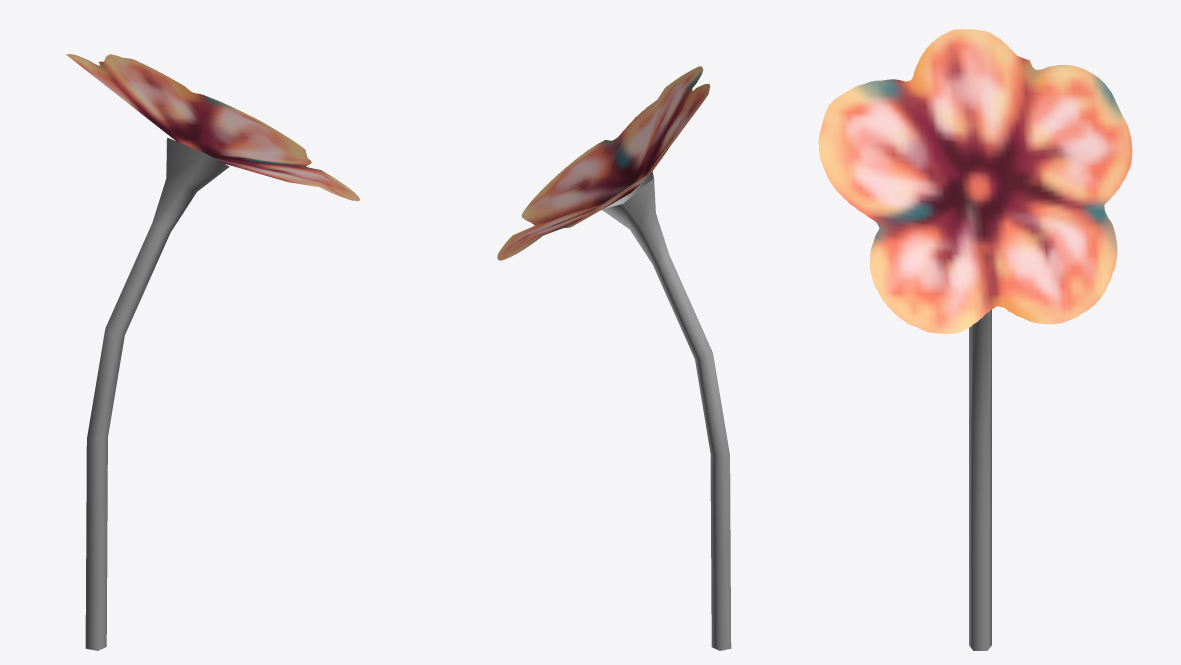
File: FlowerSingle1.fbx
3 views of the same model, side by side, from view 1: azimuth 30°, elevation 25°; view 2: azimuth 150°, elevation 25°; view 3: azimuth 270°, elevation 25° (orthographic). The views are drawn at different scales.
Parts seen in each view (by area): view 1: FlowerSingle; view 2: FlowerSingle; view 3: FlowerSingle.
Part boxes in pixels (x1=…): FlowerSingle: x1=66, y1=54, x2=359, y2=650; FlowerSingle: x1=497, y1=66, x2=731, y2=650; FlowerSingle: x1=818, y1=29, x2=1132, y2=650.
Size of the model in its own units: 0.4164 by 0.9228 by 0.4764.
